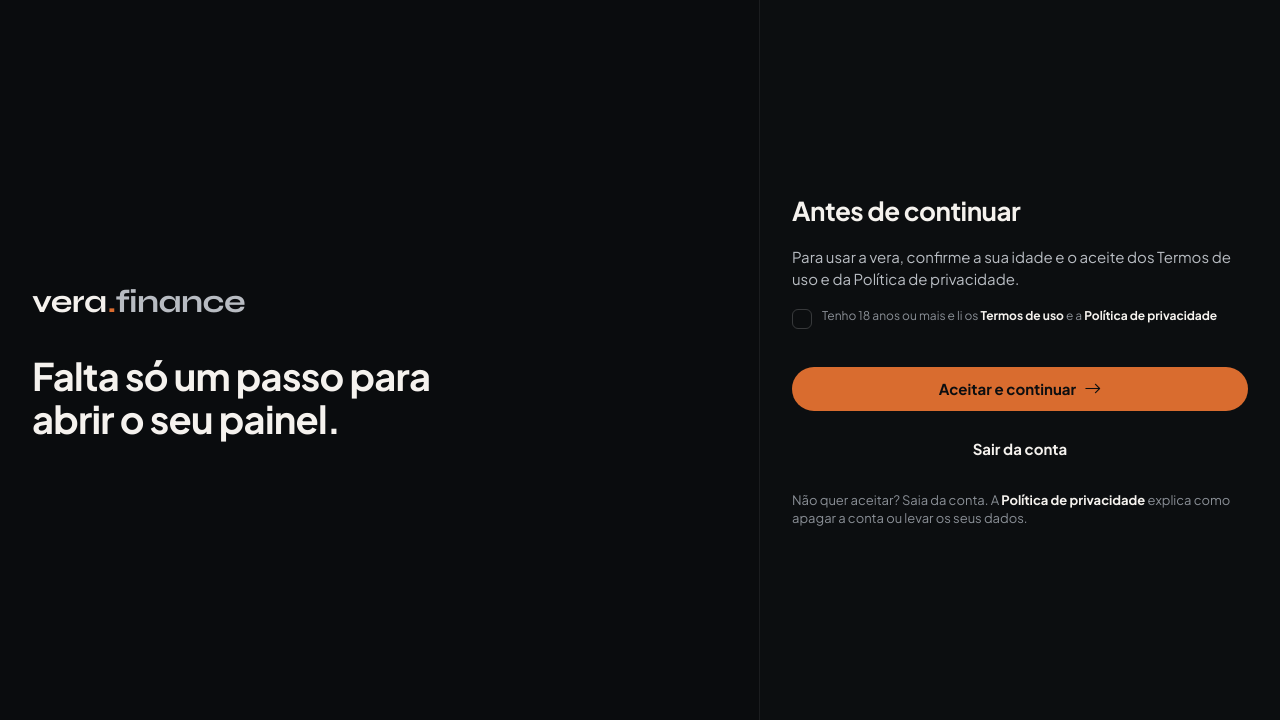
Test: AceiteDosTermos › a recusa da API aparece na tela
The image size is (1280, 720).
Click the checkbox labelled "Tenho 18 anos ou mais": click(1005, 318) [792,308,1217,328]
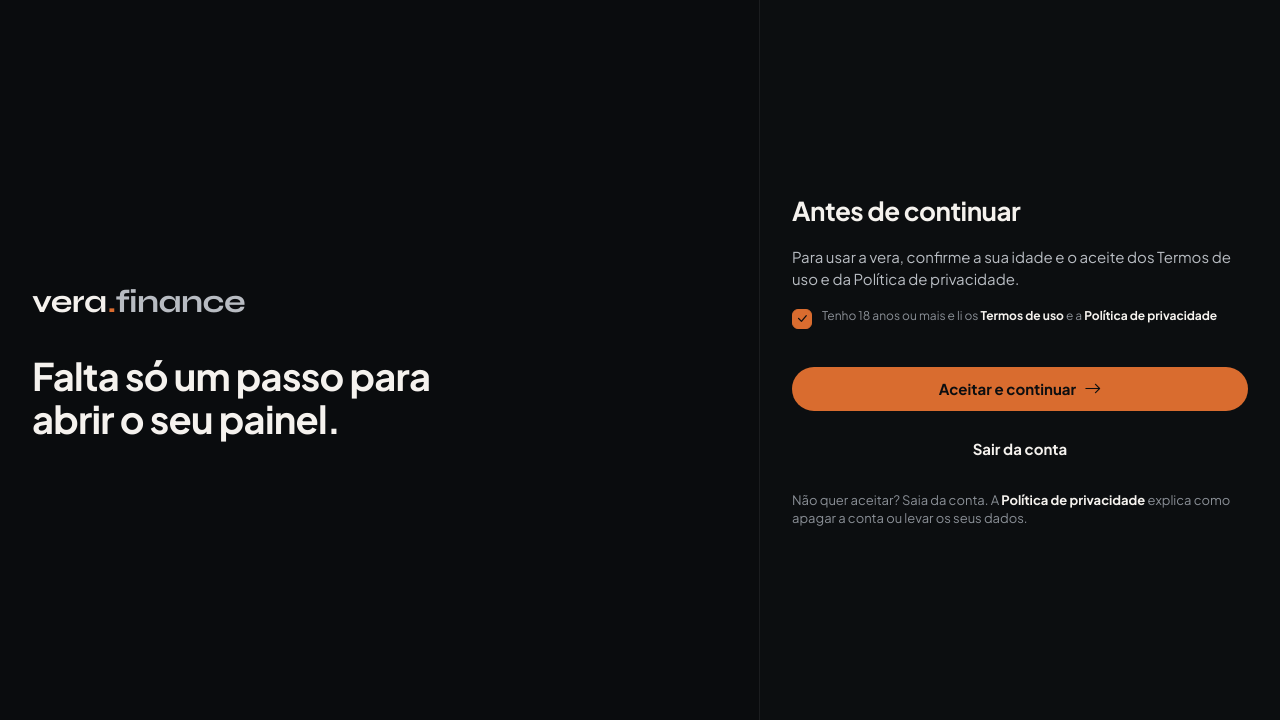
Click the button "Aceitar e continuar": click(1020, 388) [792,366,1248,410]
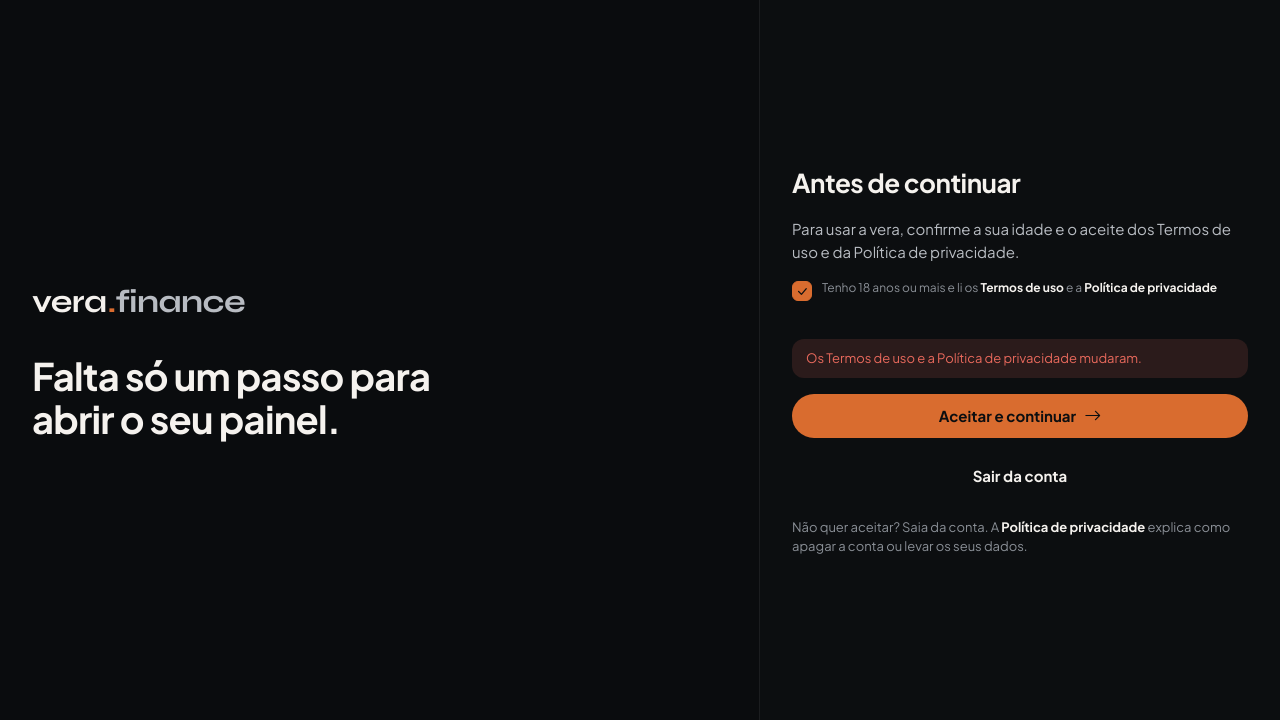
Now the message shows "mudaram", box [806,350,1142,366]
